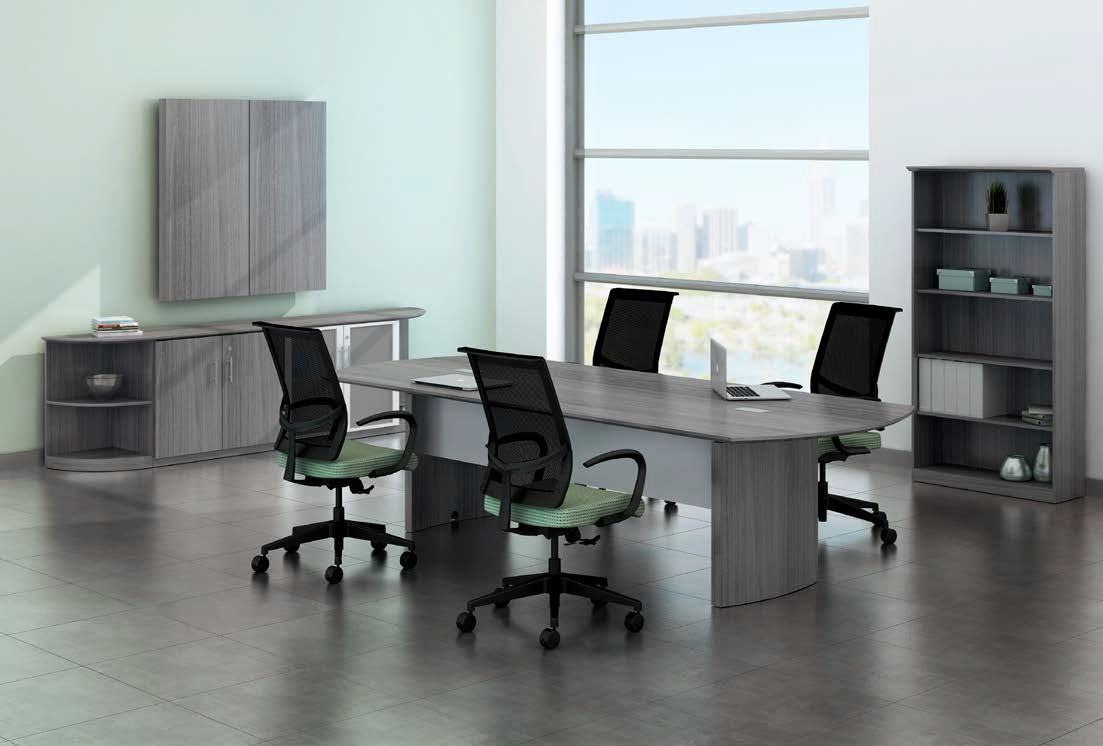conference_table: (328, 353, 913, 608)
